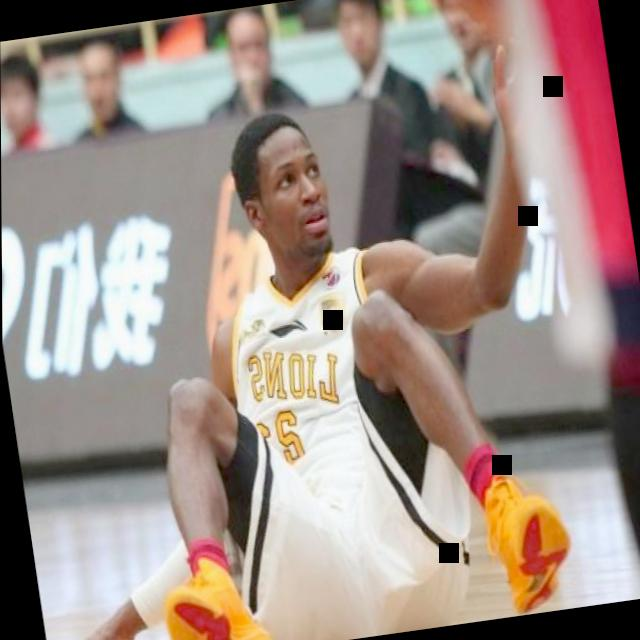Fall-Detected: (0, 53, 609, 640)
